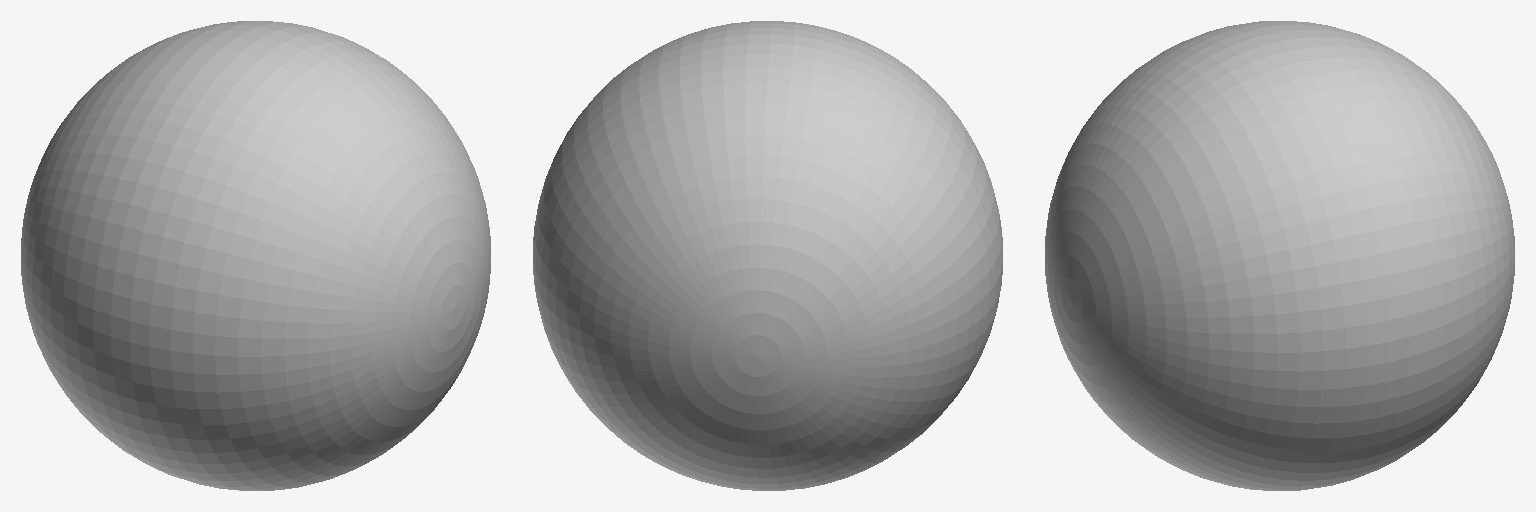
File: sphereB.obj
The picture shows the model from 3 angles: view 1: azimuth 30°, elevation 25°; view 2: azimuth 150°, elevation 25°; view 3: azimuth 270°, elevation 25°; orthographic projection.
Parts seen in each view (by area): view 1: object_1; view 2: object_1; view 3: object_1.
Boxes of the visible parts, x1=… form: object_1: x1=21, y1=21, x2=490, y2=490; object_1: x1=533, y1=21, x2=1002, y2=490; object_1: x1=1045, y1=21, x2=1514, y2=490.
Size of the model in its own units: 12.56 by 12.56 by 12.56.